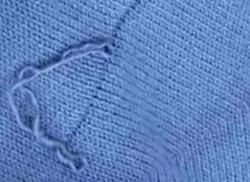snag: (66, 34, 122, 71)
